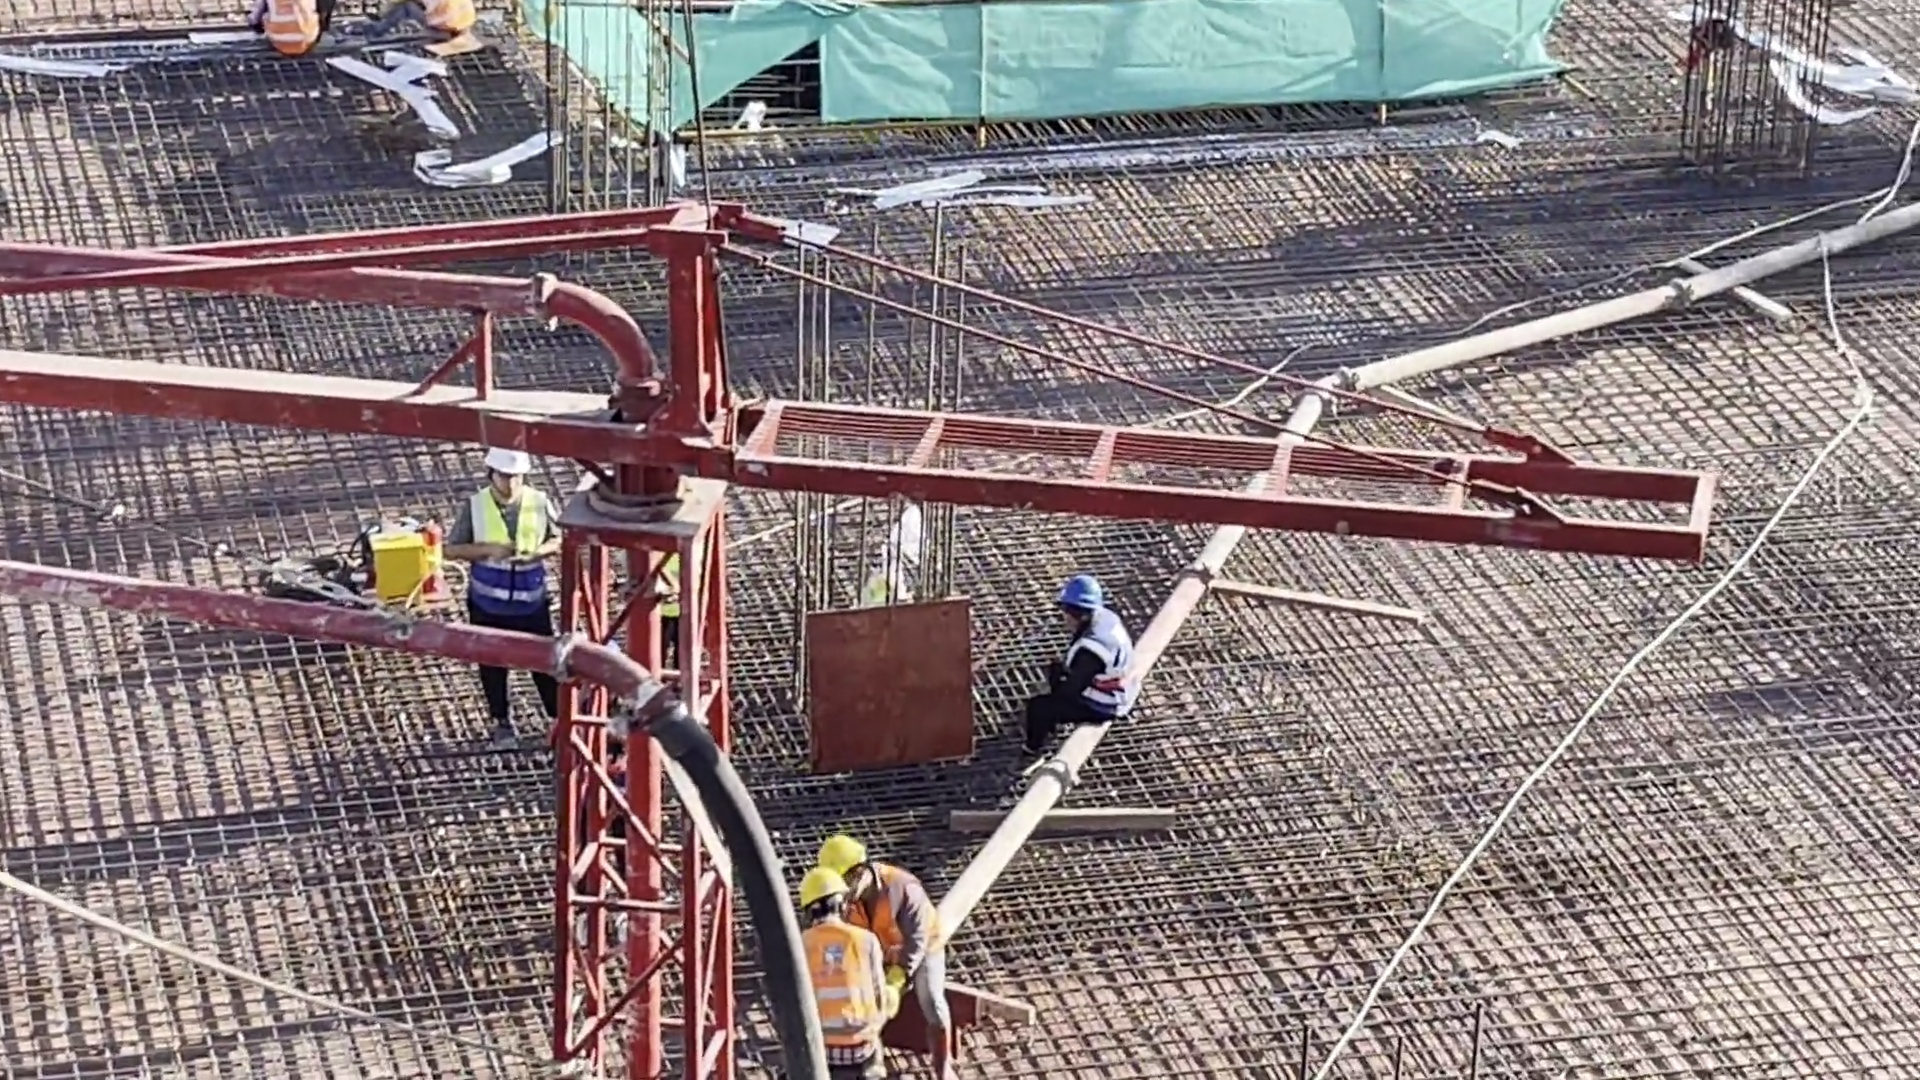helmet: (819, 827, 873, 871), (485, 446, 538, 486), (797, 869, 847, 910), (1058, 574, 1100, 608)
person: (445, 443, 560, 734), (817, 832, 937, 1080), (764, 861, 890, 1080), (1017, 567, 1135, 770), (367, 1, 493, 43), (246, 1, 332, 57)
vest: (796, 925, 884, 1069), (465, 492, 543, 620), (855, 869, 924, 971), (1055, 625, 1132, 717), (262, 2, 319, 55), (407, 1, 466, 43)
